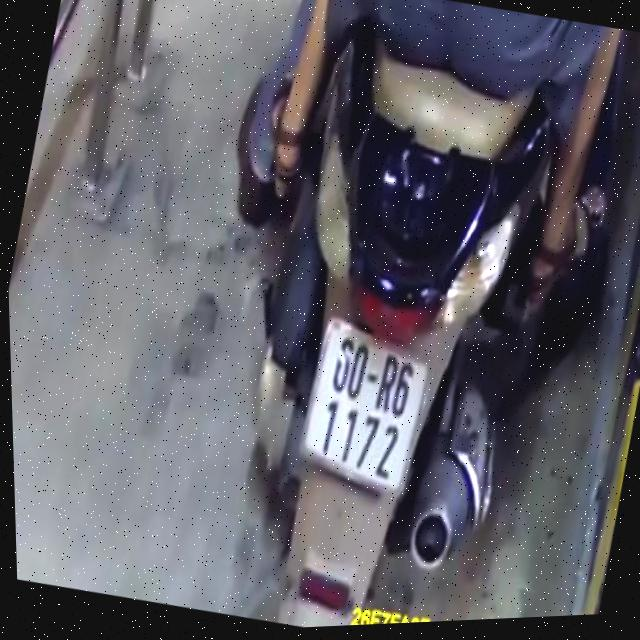motorcycle: (176, 1, 610, 632)
plate: (283, 307, 442, 505)
